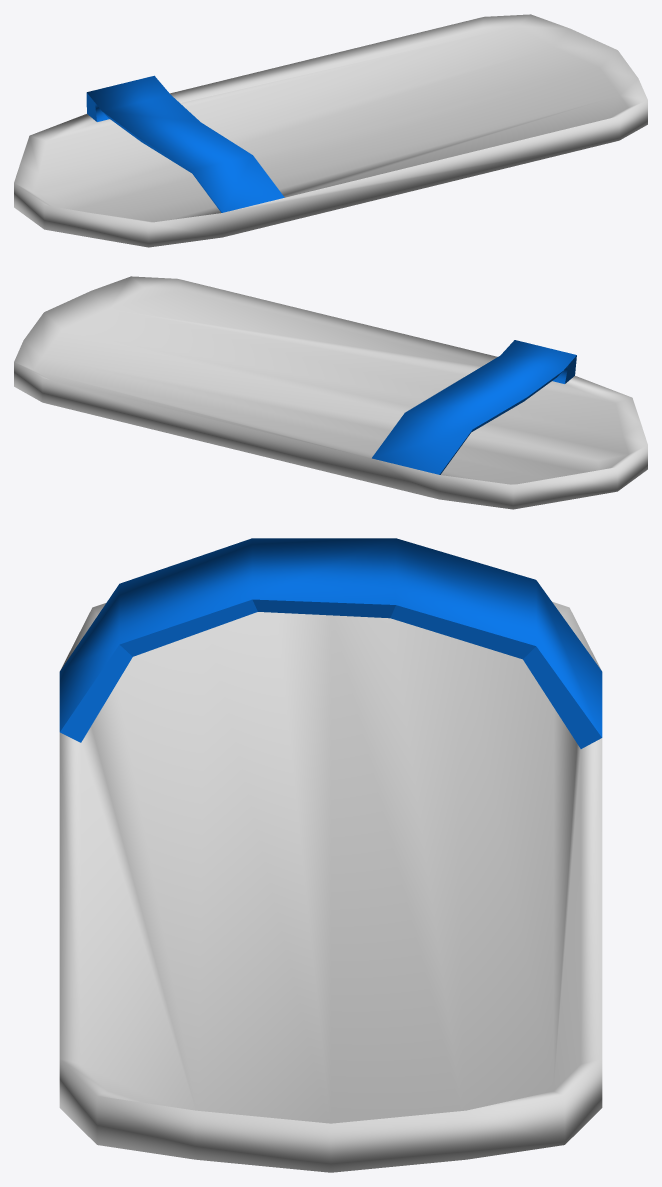
File: Shoe3.fbx
3 views of the same model, one above another, from view 1: azimuth 30°, elevation 25°; view 2: azimuth 150°, elevation 25°; view 3: azimuth 270°, elevation 25° (orthographic). The views are drawn at different scales.
Parts seen in each view (by area): view 1: Cube.033; view 2: Cube.033; view 3: Cube.033.
Part boxes in pixels (x1,y1,x2,y2): Cube.033: [14, 14, 647, 247]; Cube.033: [14, 276, 647, 509]; Cube.033: [59, 538, 602, 1172].
Bounding box in the file's own units: 255 × 102 × 30.46.
